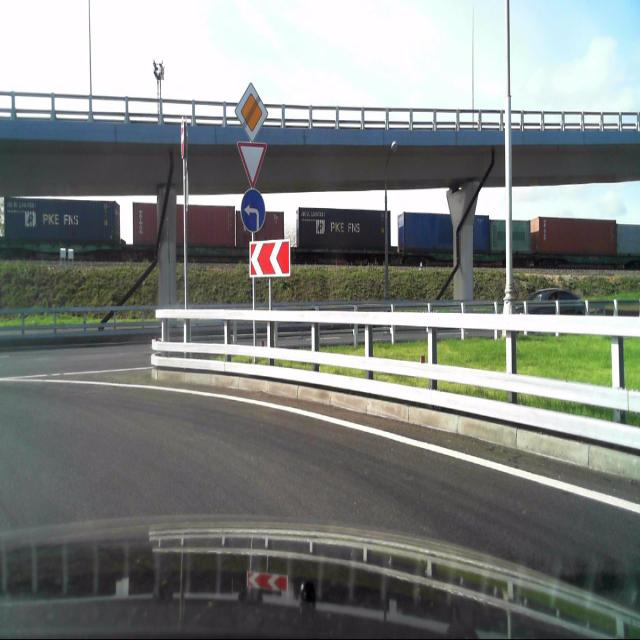road sign: (234, 84, 270, 142), (237, 141, 266, 188)
